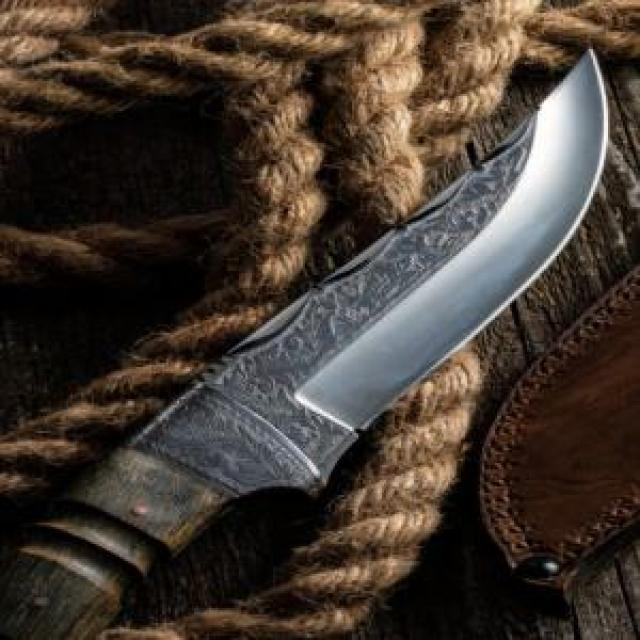knife: (0, 45, 621, 638)
